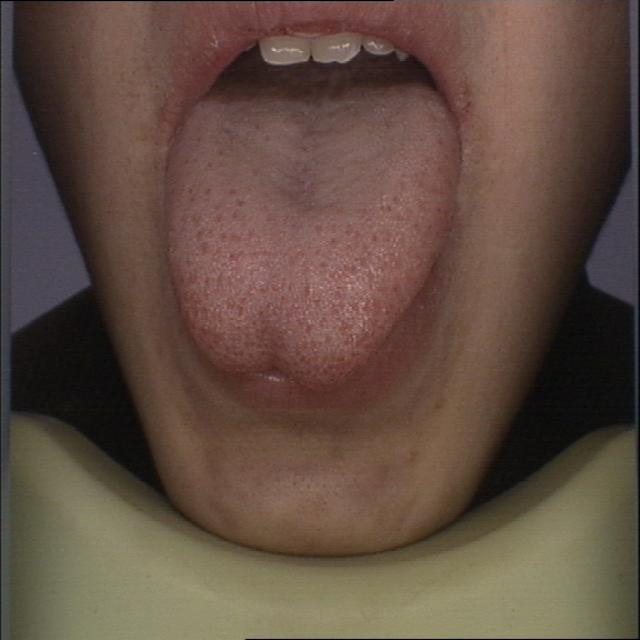tongue: (156, 90, 466, 387)
